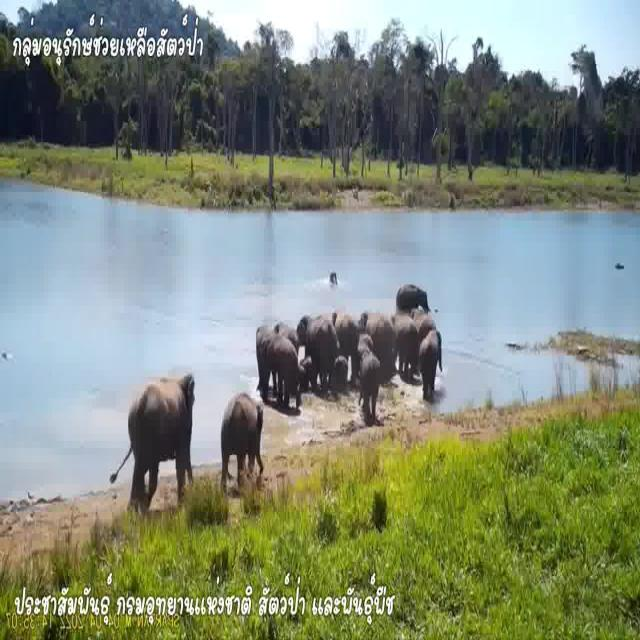Elephant: (110, 363, 198, 489), (220, 393, 264, 475), (260, 330, 300, 402), (299, 310, 334, 370), (392, 300, 418, 374), (357, 342, 382, 410), (422, 331, 447, 384), (362, 310, 389, 347)
